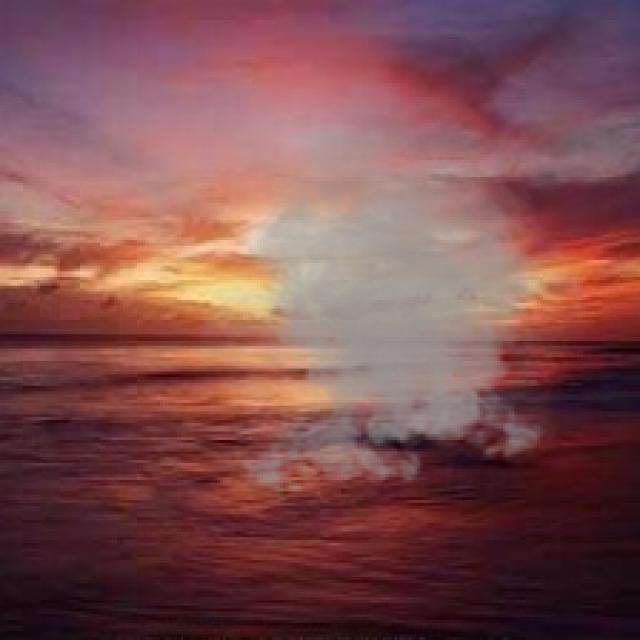Smoke: (180, 117, 606, 506)
